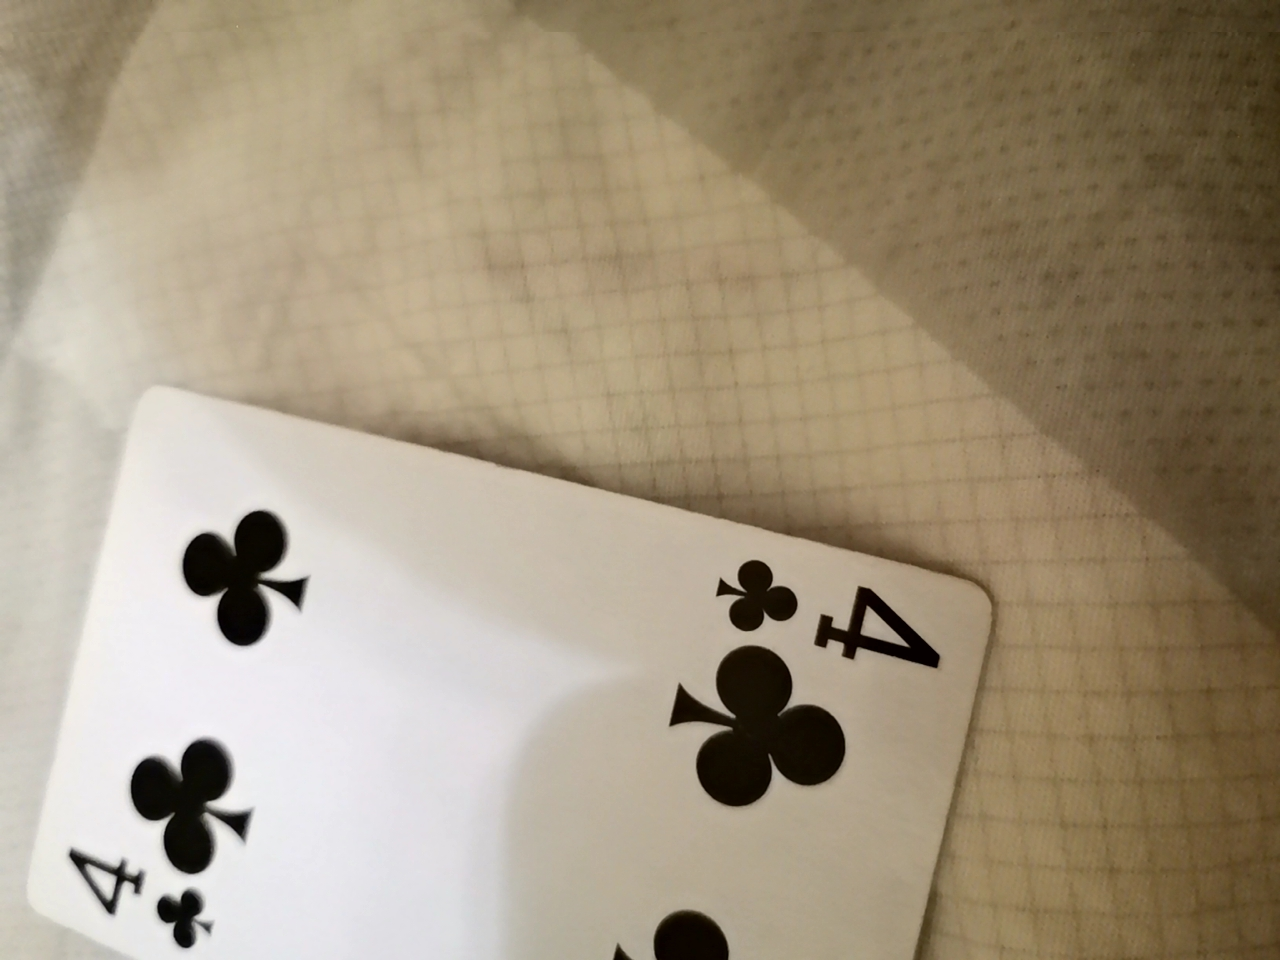mh 4: (16, 382, 959, 960)
